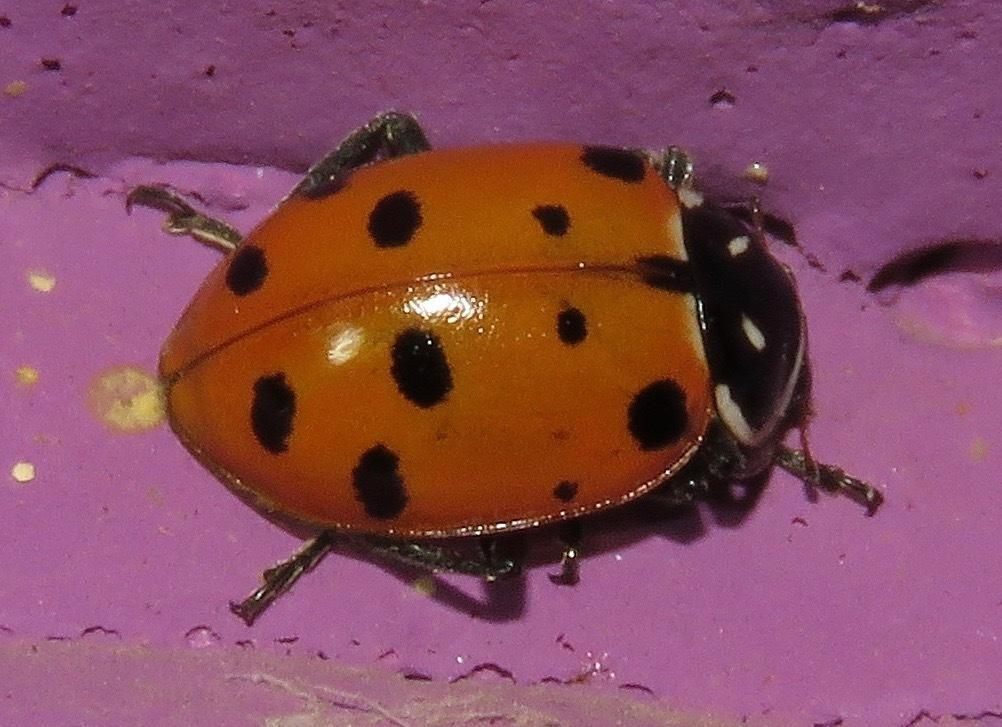ladybug: (121, 99, 895, 631)
